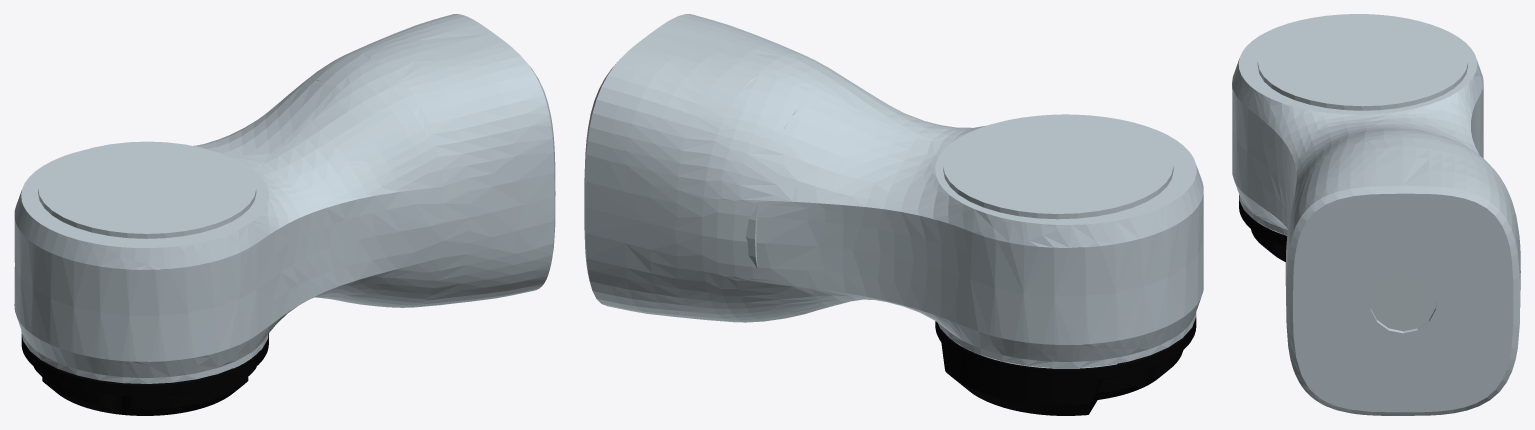
The model's file is left_elbow_link.dae.
The picture shows the model from 3 angles, left to right: view 1: azimuth 30°, elevation 25°; view 2: azimuth 150°, elevation 25°; view 3: azimuth 270°, elevation 25°; orthographic projection. The views are drawn at different scales.
Parts seen in each view (by area): view 1: left_elbow_link; view 2: left_elbow_link; view 3: left_elbow_link.
Boxes of the visible parts, x1,y1,x2,y2 form: left_elbow_link: [14, 14, 555, 415]; left_elbow_link: [584, 14, 1203, 415]; left_elbow_link: [1232, 14, 1520, 415].
Size of the model in its own units: 0.1683 by 0.0804 by 0.0893.
